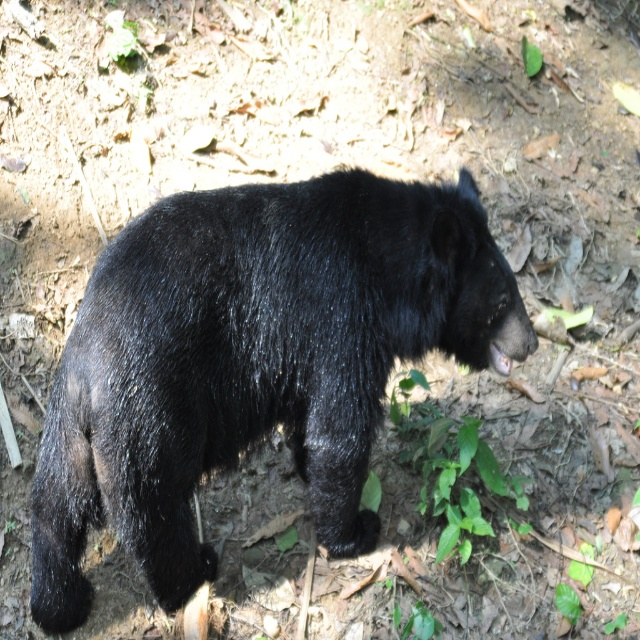Bear: (26, 162, 540, 639)
